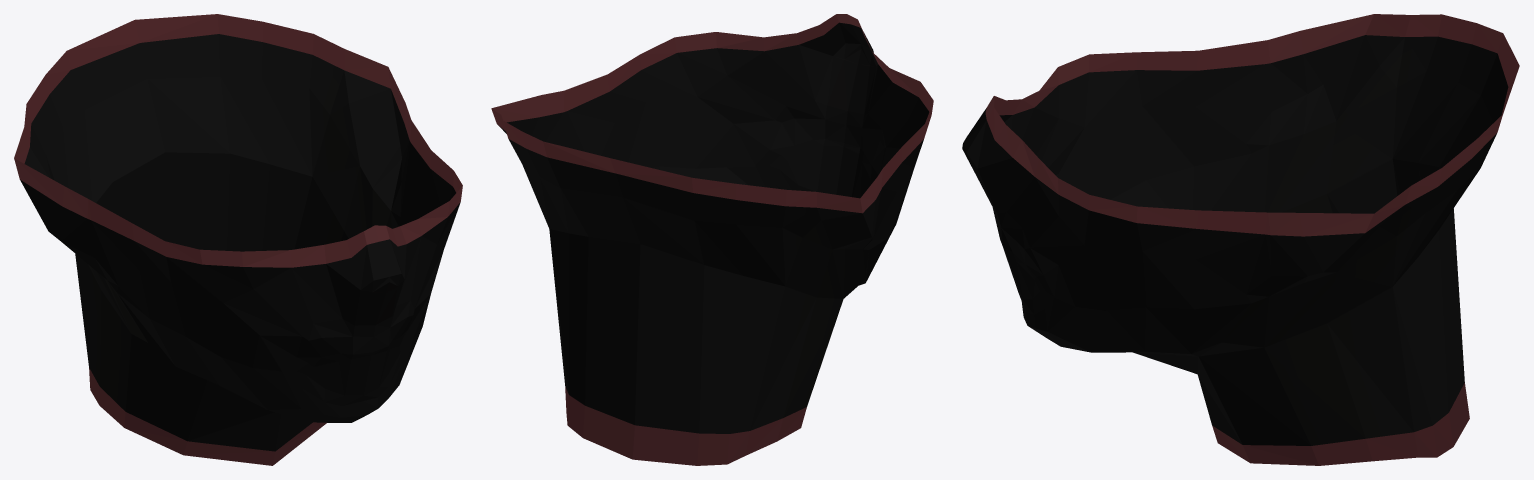
Rendered from miscNinjaMaskFemale.glb.
3 views of the same model, side by side, from view 1: azimuth 30°, elevation 25°; view 2: azimuth 150°, elevation 25°; view 3: azimuth 270°, elevation 25° (orthographic). The views are drawn at different scales.
Parts seen in each view (by area): view 1: miscNinjaMaskFemale; view 2: miscNinjaMaskFemale; view 3: miscNinjaMaskFemale.
Boxes of the visible parts, box(x1,y1,x2,y2) form: miscNinjaMaskFemale: box(14, 14, 462, 465); miscNinjaMaskFemale: box(491, 14, 933, 465); miscNinjaMaskFemale: box(962, 14, 1519, 465).
Bounding box in the file's own units: 0.2235 × 0.1969 × 0.2637.
